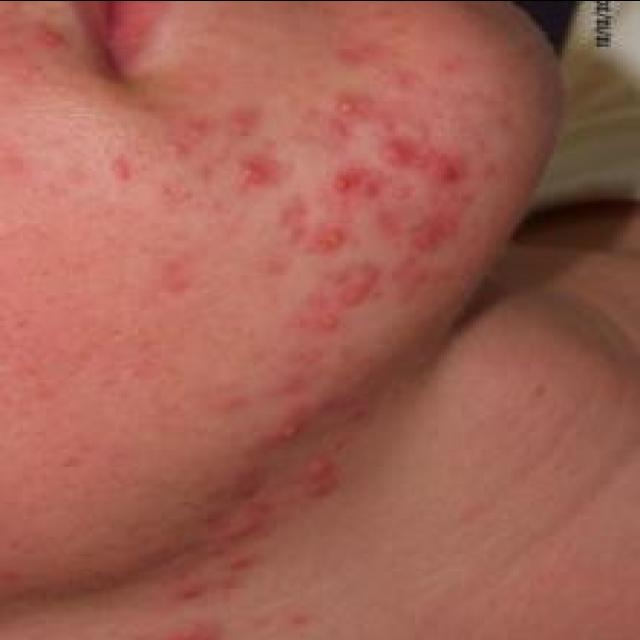Acne: (251, 402, 317, 448), (404, 204, 466, 252), (330, 258, 382, 310), (416, 141, 467, 187), (220, 501, 272, 545), (292, 455, 342, 500), (229, 149, 279, 193), (324, 94, 374, 137), (284, 291, 339, 330), (326, 165, 382, 199), (156, 618, 225, 640), (376, 135, 414, 171), (305, 224, 348, 255), (216, 105, 258, 134), (102, 153, 140, 184), (33, 23, 70, 49)
